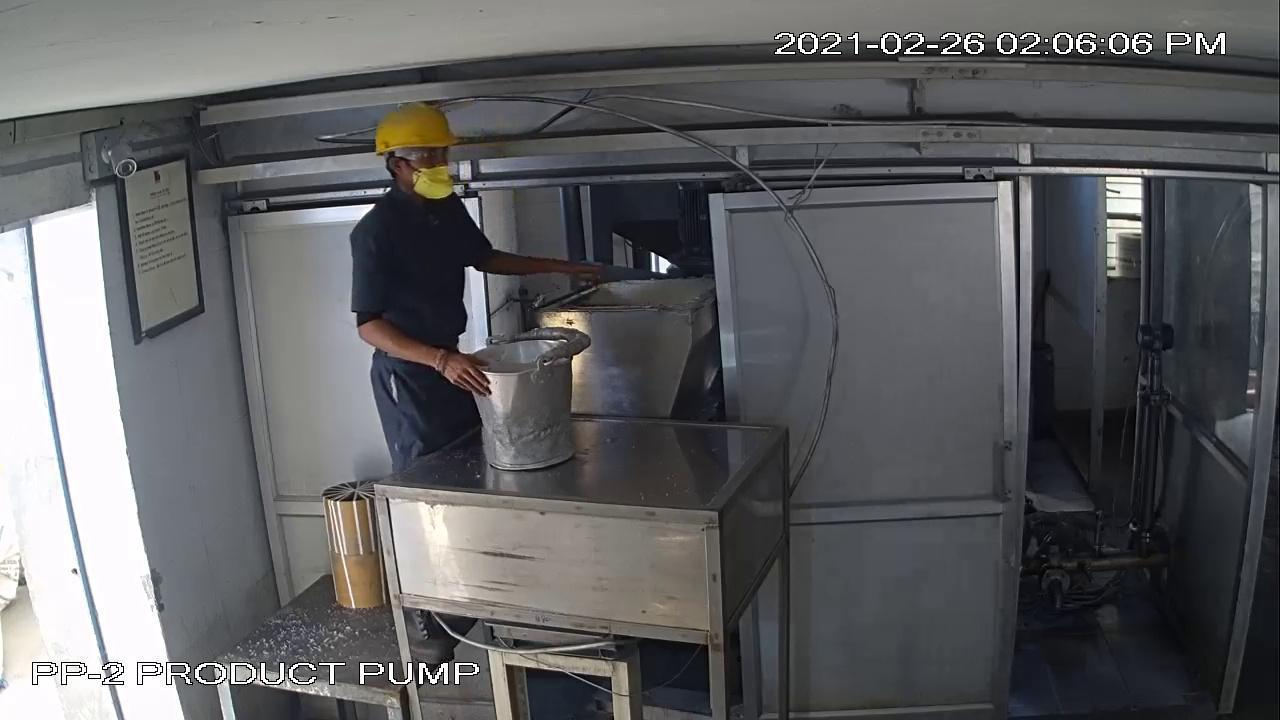helmet: (358, 99, 474, 159)
